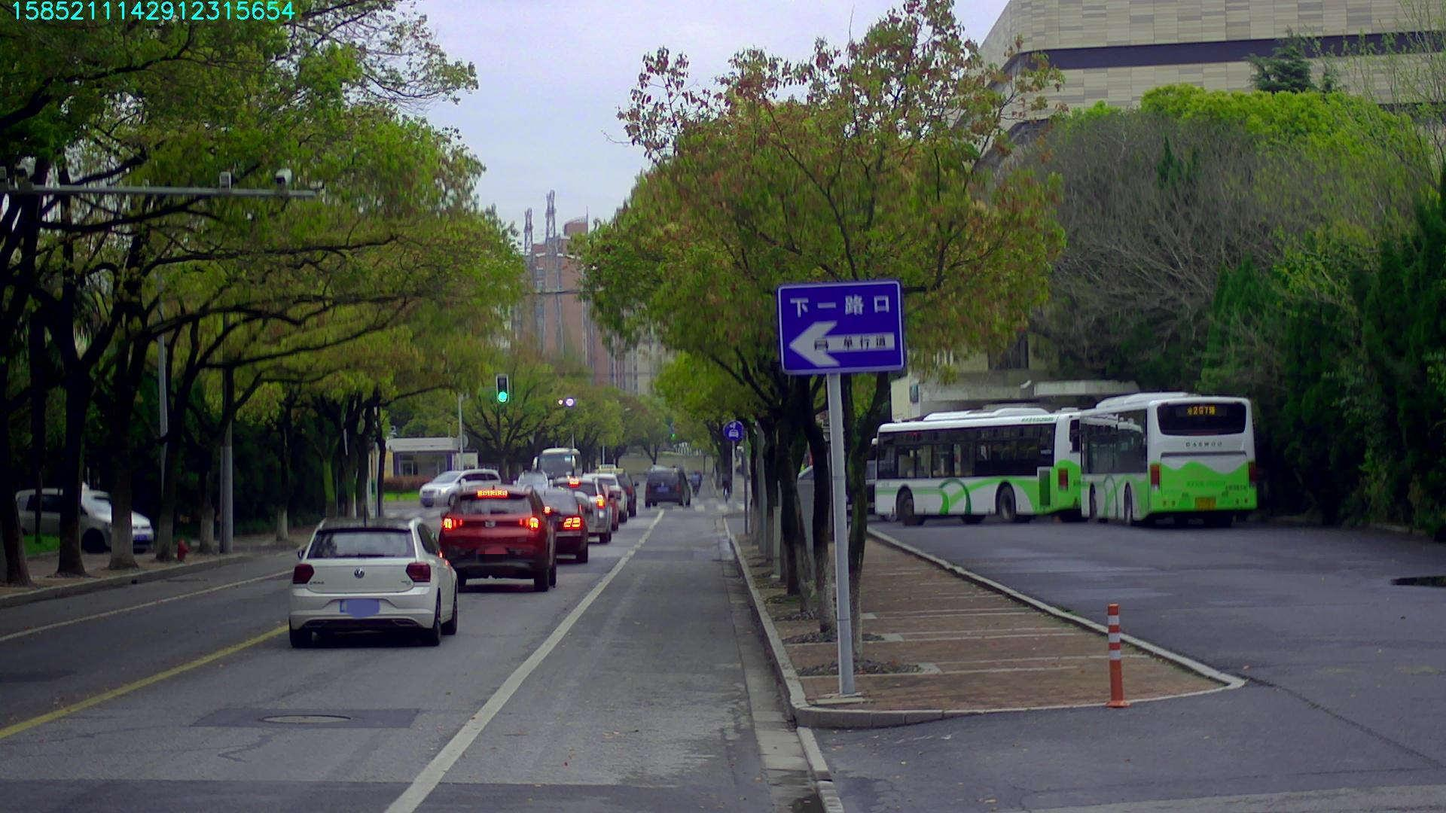green: (496, 373, 507, 402)
